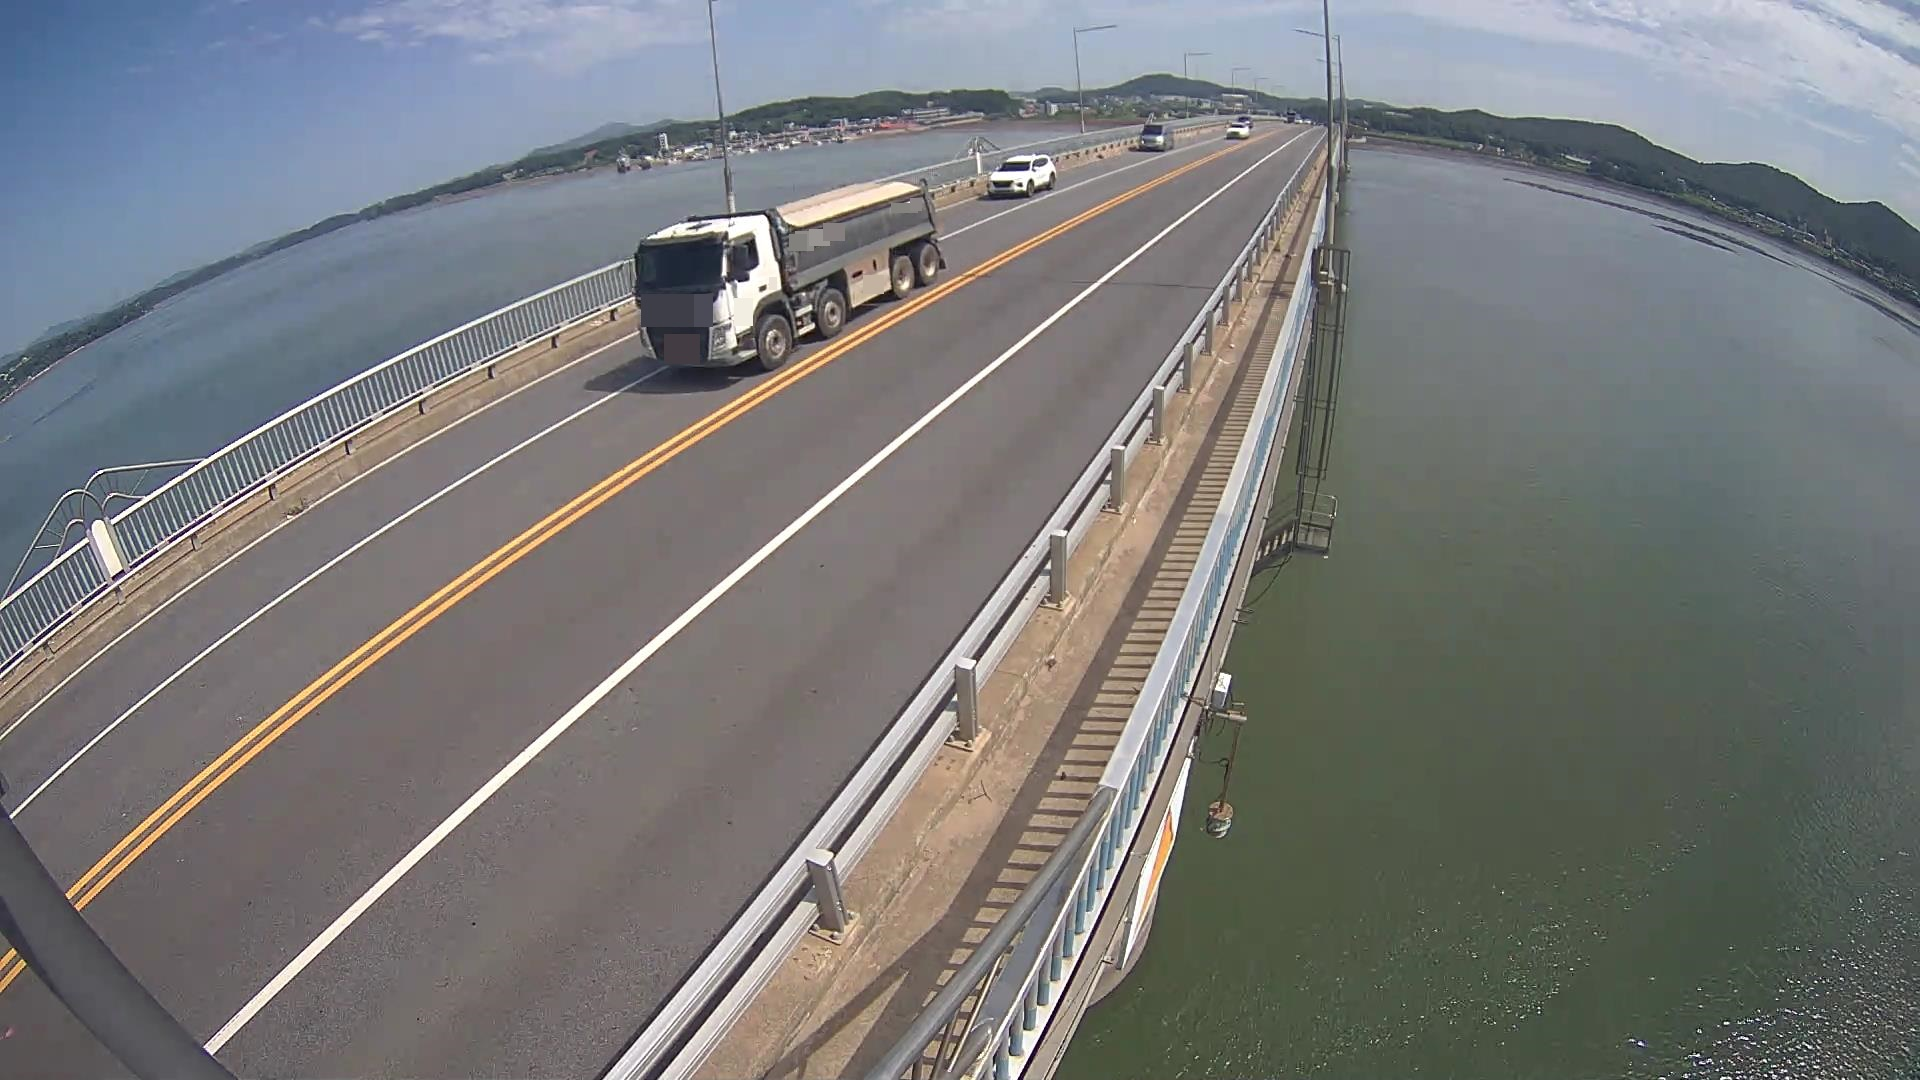정상차량: (618, 179, 947, 371)
